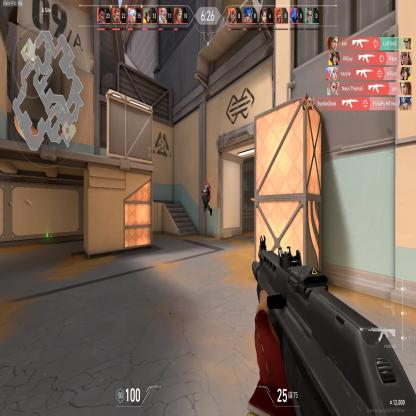enemy: (200, 178, 212, 217)
